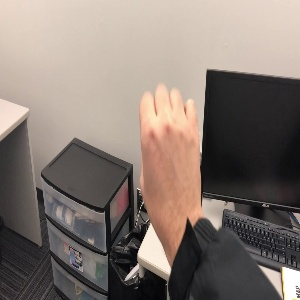hand: (140, 85, 201, 215)
